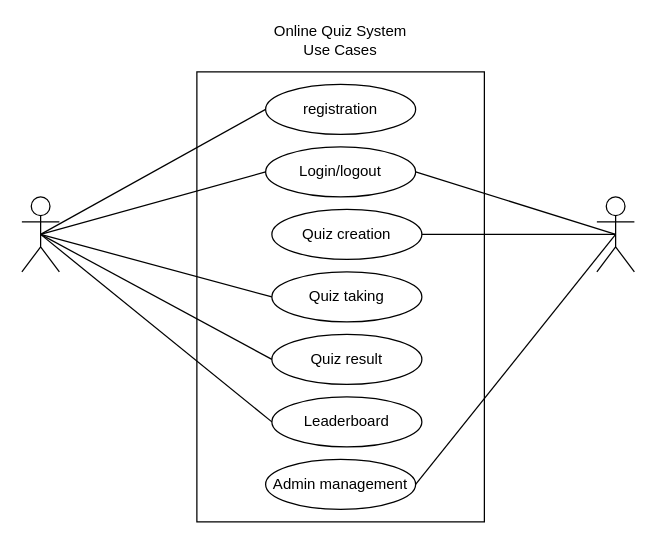
The diagram is 659 pixels wide and 544 high, and some of its shapes have lost their labels. The centre of each missing label's shape, as x and y in pixels:
"Admin" goes at point 615,234.
"User" goes at point 40,234.
